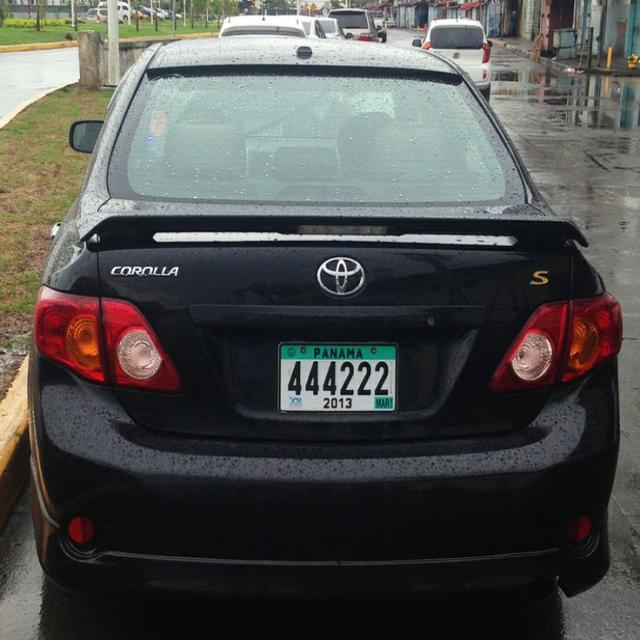Placas: (278, 341, 396, 413)
